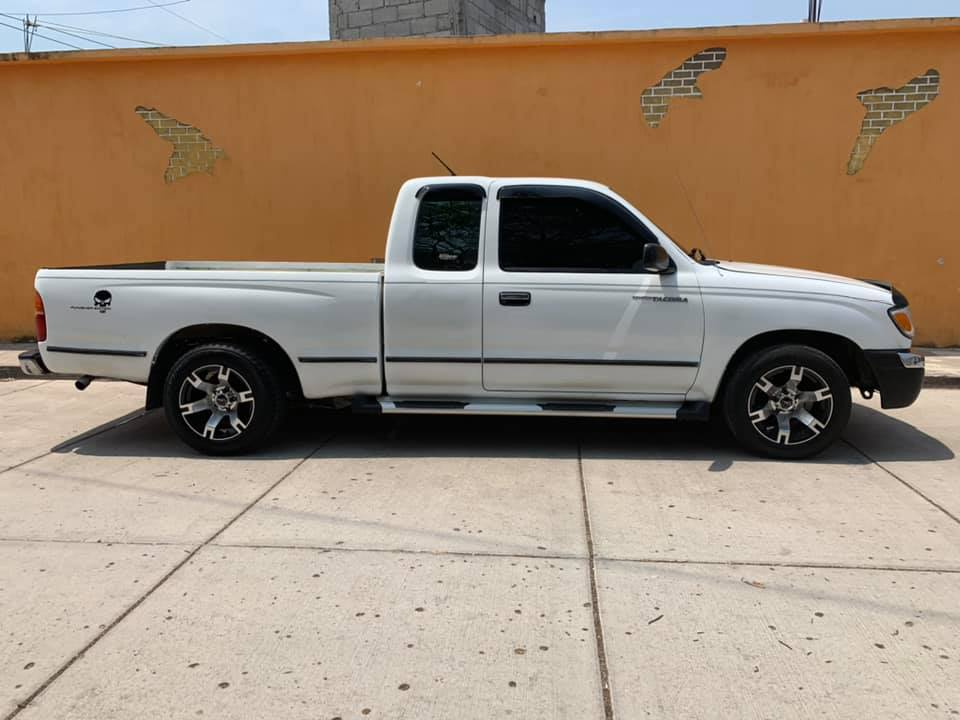pickup: (19, 179, 927, 454)
